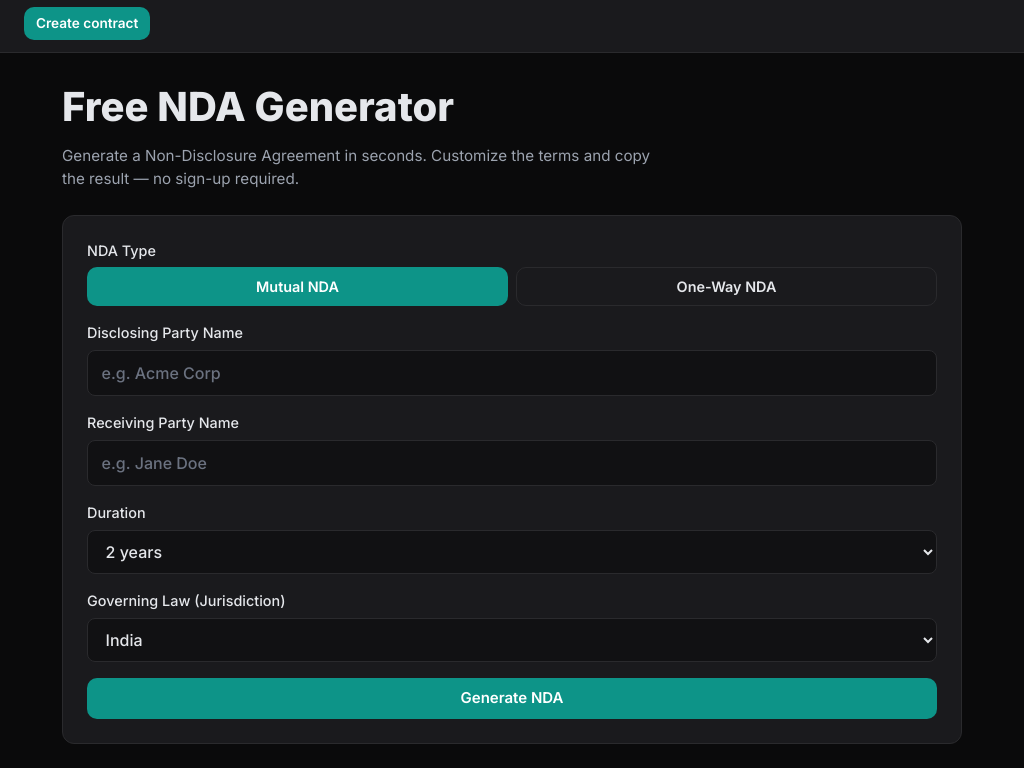
Test case: NdaGeneratorPage › generates NDA on button click
(page scrolled)
Click the button "Generate NDA". click: [512, 699]
box: [87,678,937,719]
(page scrolled)
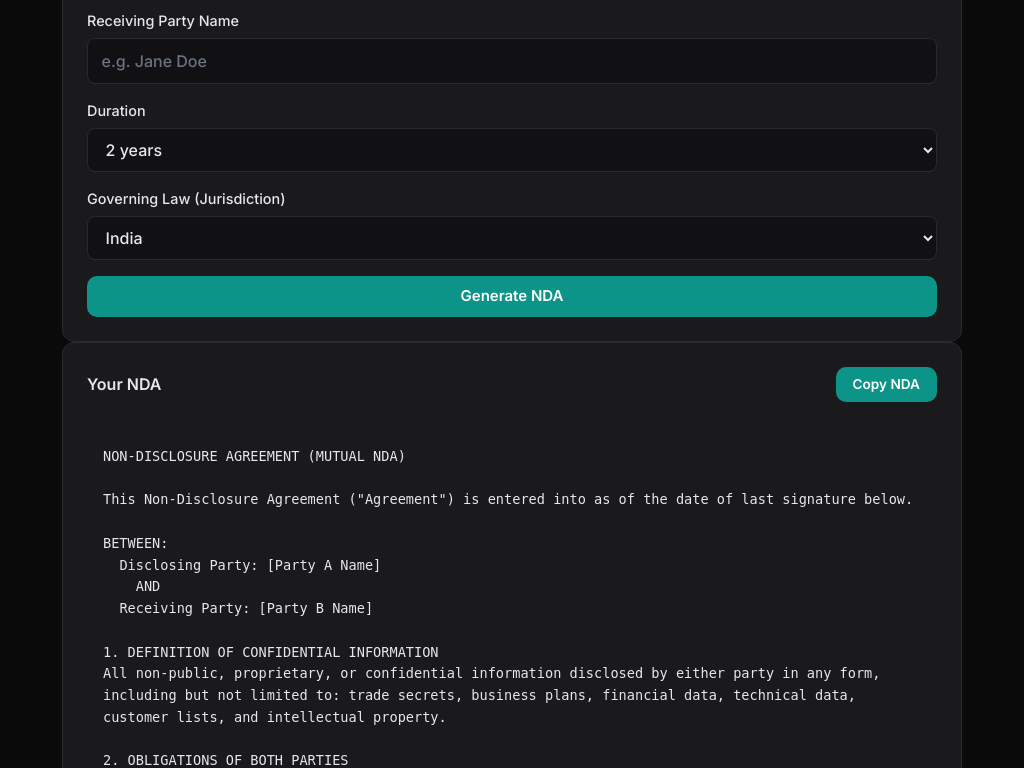
expect the heading "Your NDA" is shown: met, box [87,372,162,396]
expect the button "Copy NDA" is shown: met, box [836,367,937,402]
